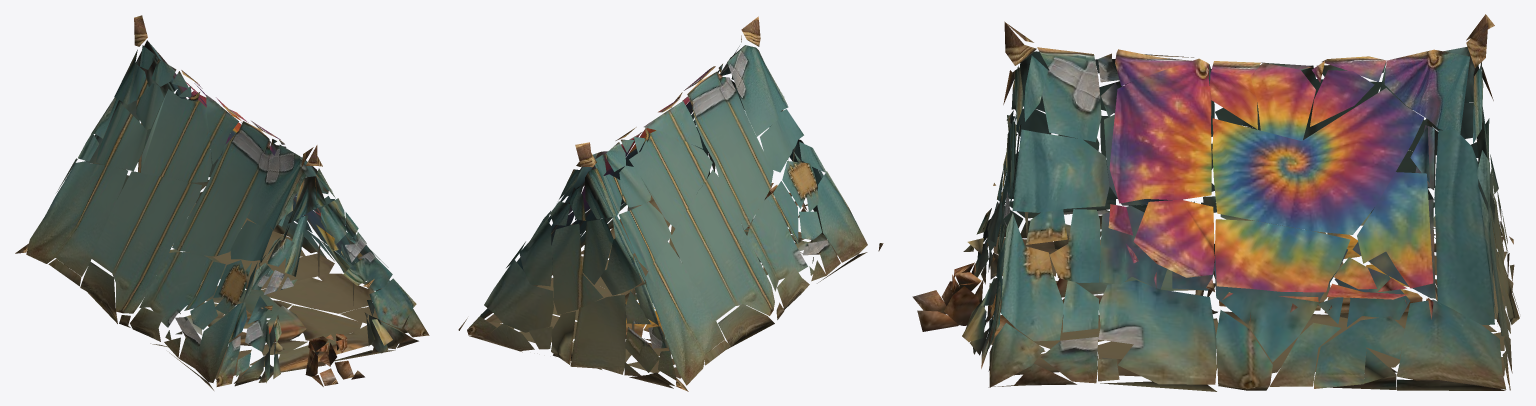
Rendered from ridgetent.glb.
3 views of the same model, side by side, from view 1: azimuth 30°, elevation 25°; view 2: azimuth 150°, elevation 25°; view 3: azimuth 270°, elevation 25° (orthographic). The views are drawn at different scales.
Visible parts, largest first — view 1: tripo_node_97601d65-2dd3-435d-8748-19b3283dd921; view 2: tripo_node_97601d65-2dd3-435d-8748-19b3283dd921; view 3: tripo_node_97601d65-2dd3-435d-8748-19b3283dd921.
Boxes of the visible parts, bbox=[...] form: tripo_node_97601d65-2dd3-435d-8748-19b3283dd921: bbox=[15, 15, 429, 390]; tripo_node_97601d65-2dd3-435d-8748-19b3283dd921: bbox=[458, 16, 883, 391]; tripo_node_97601d65-2dd3-435d-8748-19b3283dd921: bbox=[912, 14, 1519, 391].
Size of the model in its own units: 1.31 by 1.17 by 2.11.
Materials: 1 (1 with a texture image).
